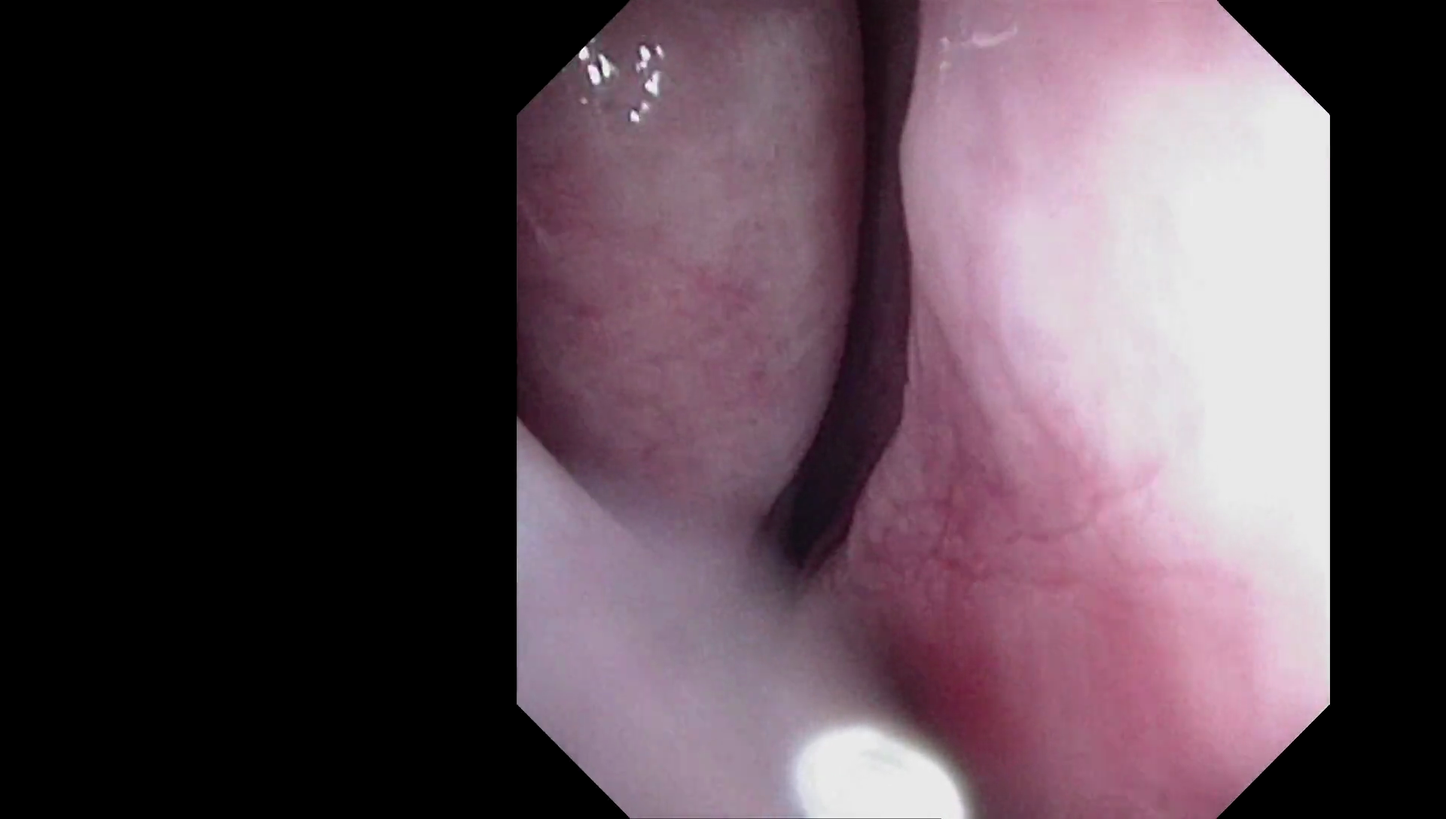close_wall: (955, 90, 1321, 687)
next: (734, 249, 952, 632), (789, 0, 928, 325)
